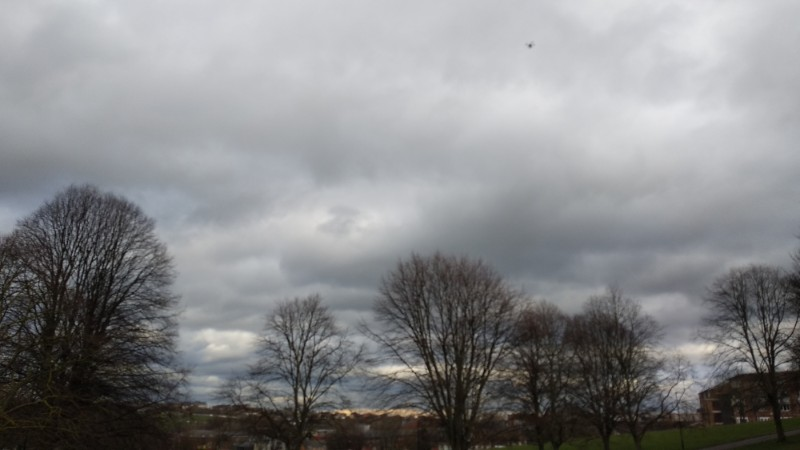drone: (524, 40, 535, 51)
